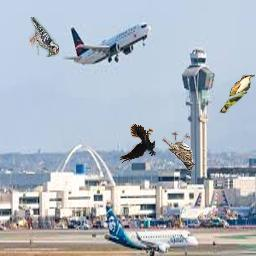Crow: (120, 124, 156, 164)
Cuckoo: (219, 74, 255, 114)
Sparrow: (162, 131, 195, 171)
Woodpecker: (29, 17, 59, 57)
